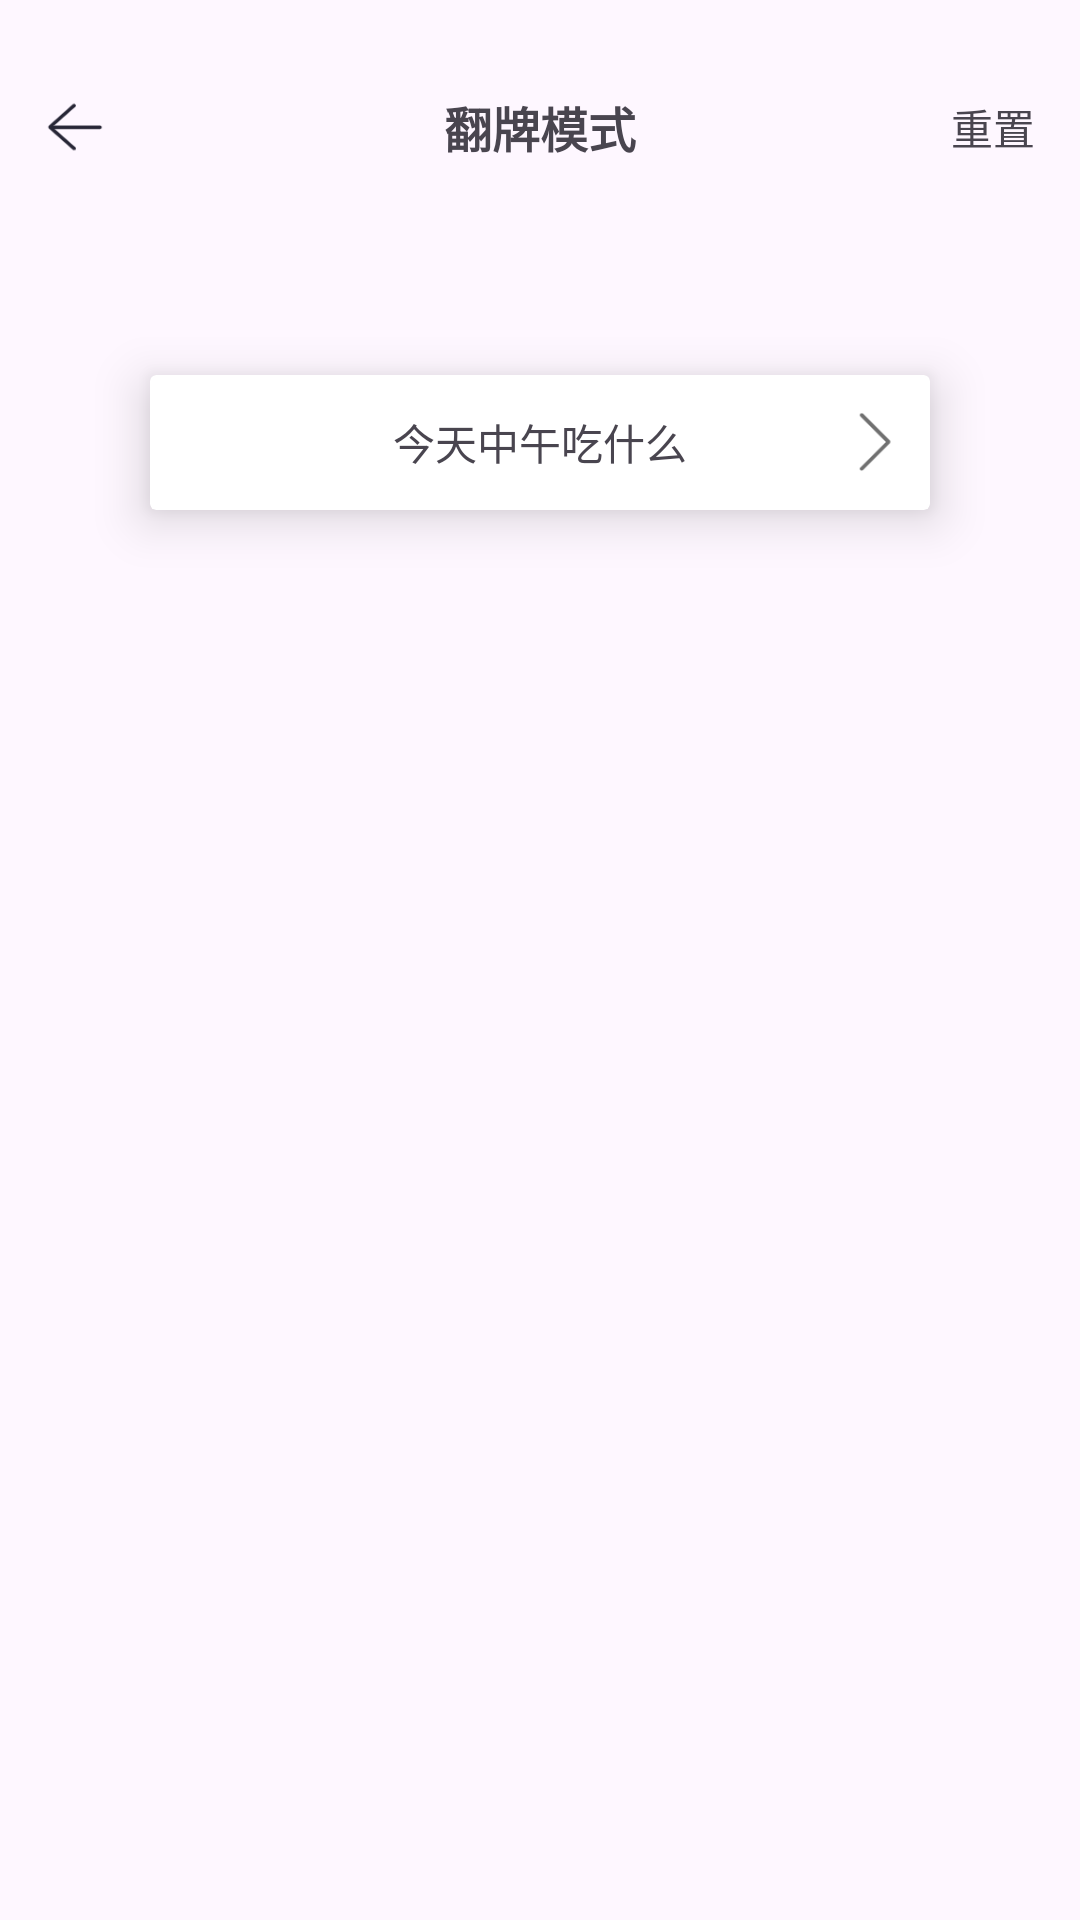

Where to tap for icons on this 1080 × 1920 app screen, as (x,y):
fanhui: (75,127)
you: (875,442)
